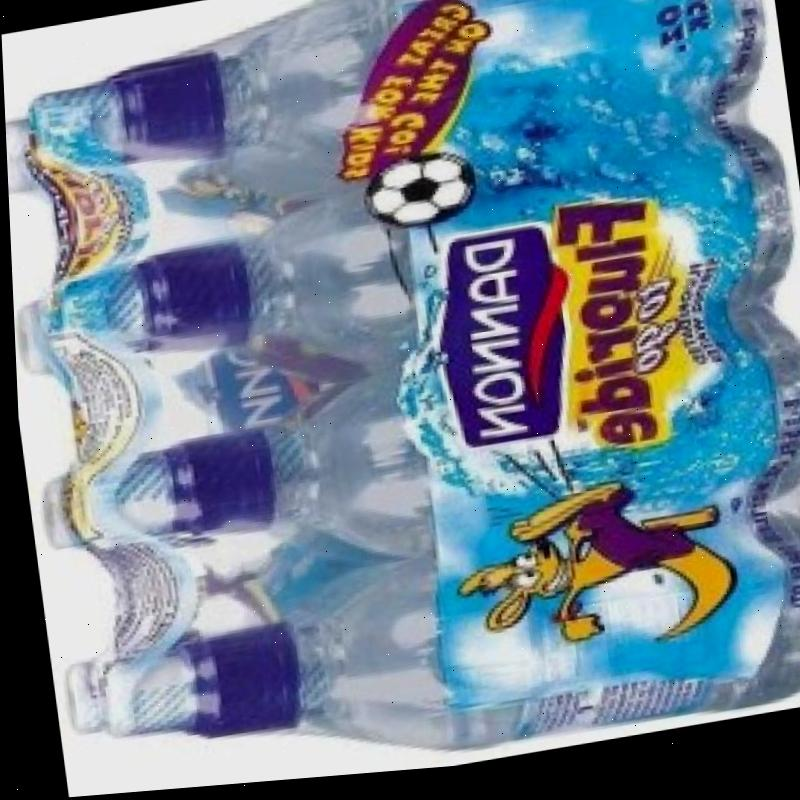botella: (72, 309, 800, 619), (51, 116, 800, 417), (78, 507, 800, 796), (20, 0, 780, 232), (3, 68, 340, 253), (10, 290, 60, 384), (34, 471, 91, 551), (52, 650, 93, 736)
